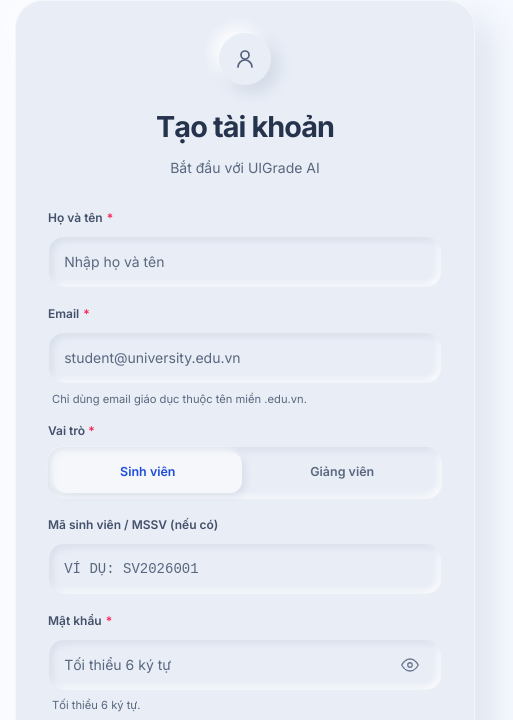
Test case: Registration experience › does not show password guidance as an error before the user types
Expected: the text "Mật khẩu cần ít nhất 6 ký tự." is not shown
In the password field labelled "Mật khẩu": point(223, 665) top-left (64, 641), bottom-right (382, 689), type "12345"
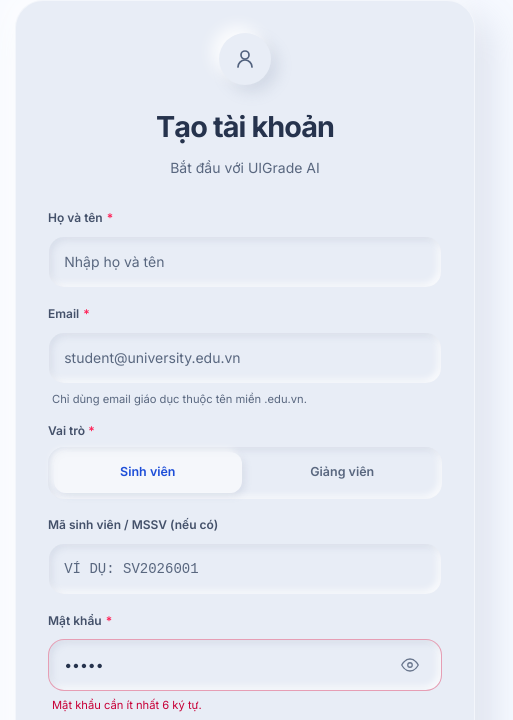
Expected: the text "Mật khẩu cần ít nhất 6 ký tự." is shown, top-left (52, 698), bottom-right (202, 712)
